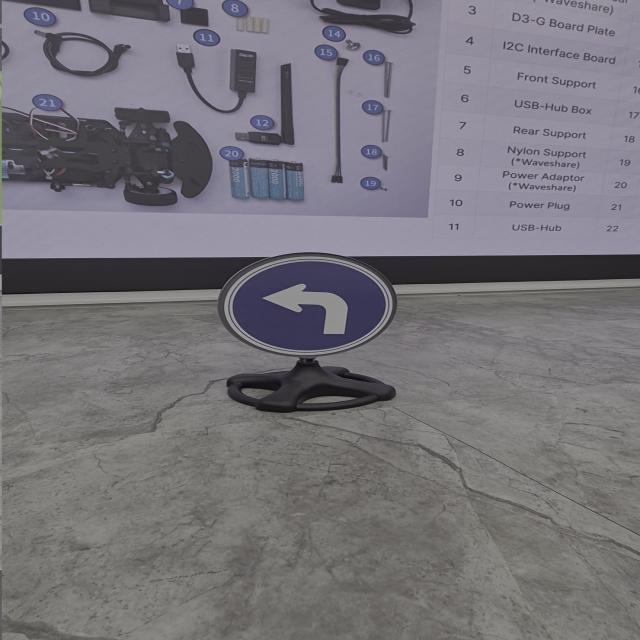left_direction: (197, 238, 444, 390)
